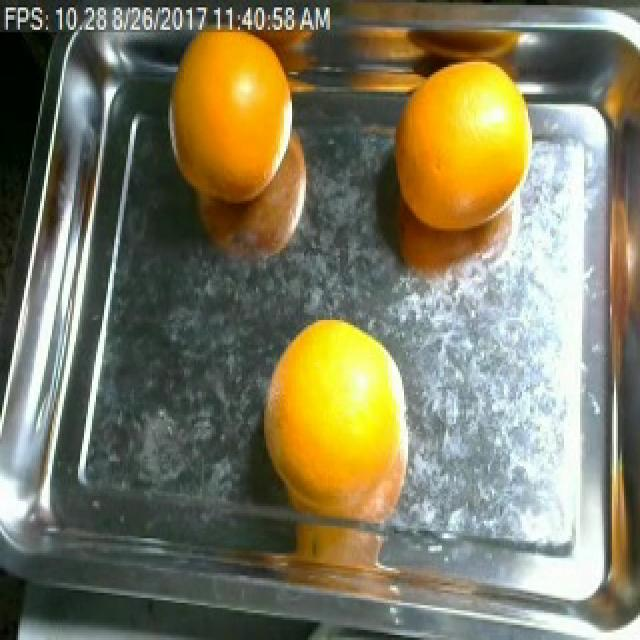Fruit: (248, 300, 424, 506), (372, 42, 540, 253), (150, 12, 302, 218)
